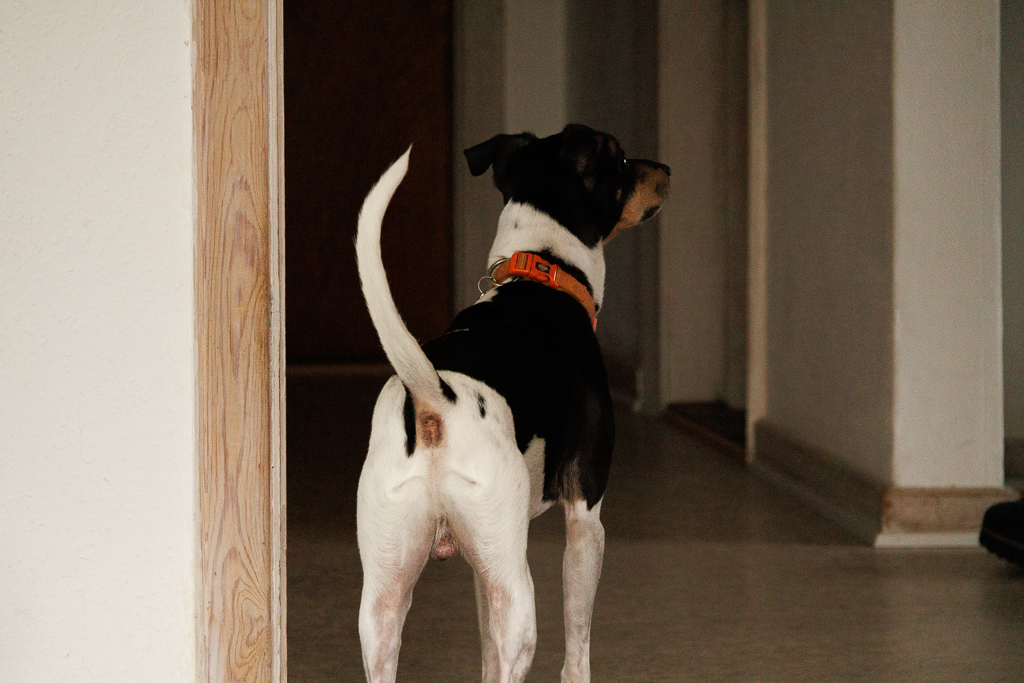Dog: (346, 119, 681, 683)
